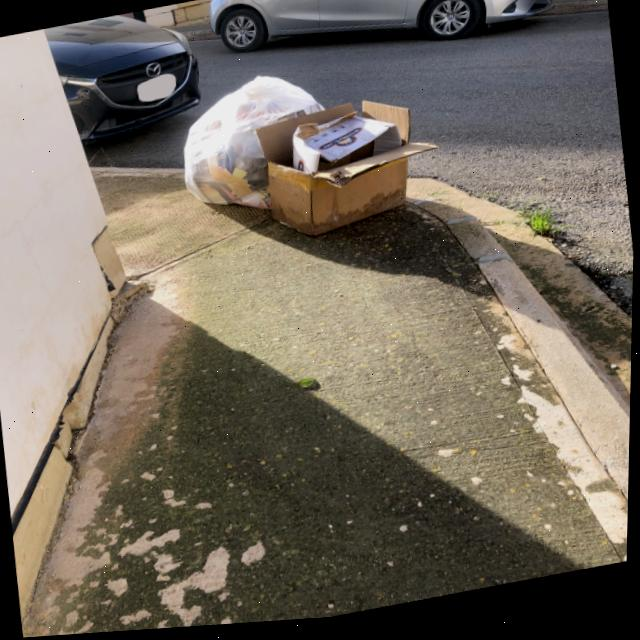Other: (253, 93, 450, 250), (289, 109, 406, 182)
Recycled Waste -Grey or Green Bag-: (175, 68, 339, 229)
